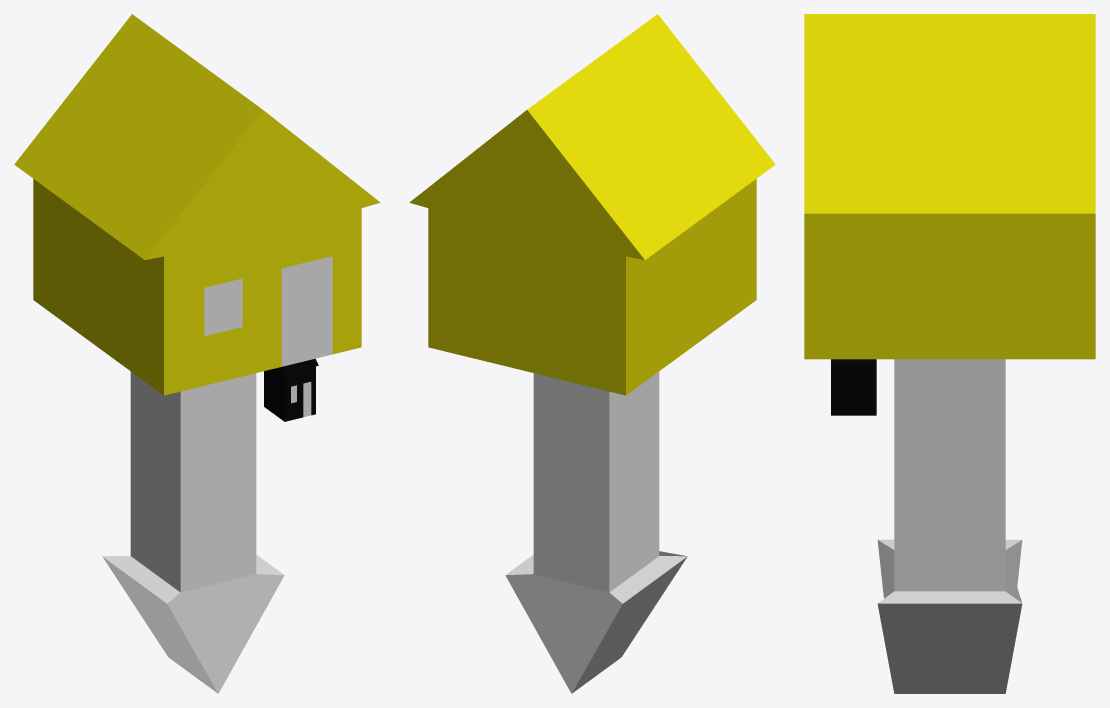
The model's file is lamp.fbx.
3 renders of one model, left to right at view 1: azimuth 30°, elevation 25°; view 2: azimuth 150°, elevation 25°; view 3: azimuth 270°, elevation 25°, orthographic. The views are drawn at different scales.
Parts seen in each view (by area): view 1: Cube.210; view 2: Cube.210; view 3: Cube.210.
Part boxes in pixels (x1,y1,x2,y2): Cube.210: [14, 14, 380, 693]; Cube.210: [409, 14, 775, 693]; Cube.210: [804, 14, 1095, 693].
Bounding box in the file's own units: 91.17 × 226 × 87.49.
